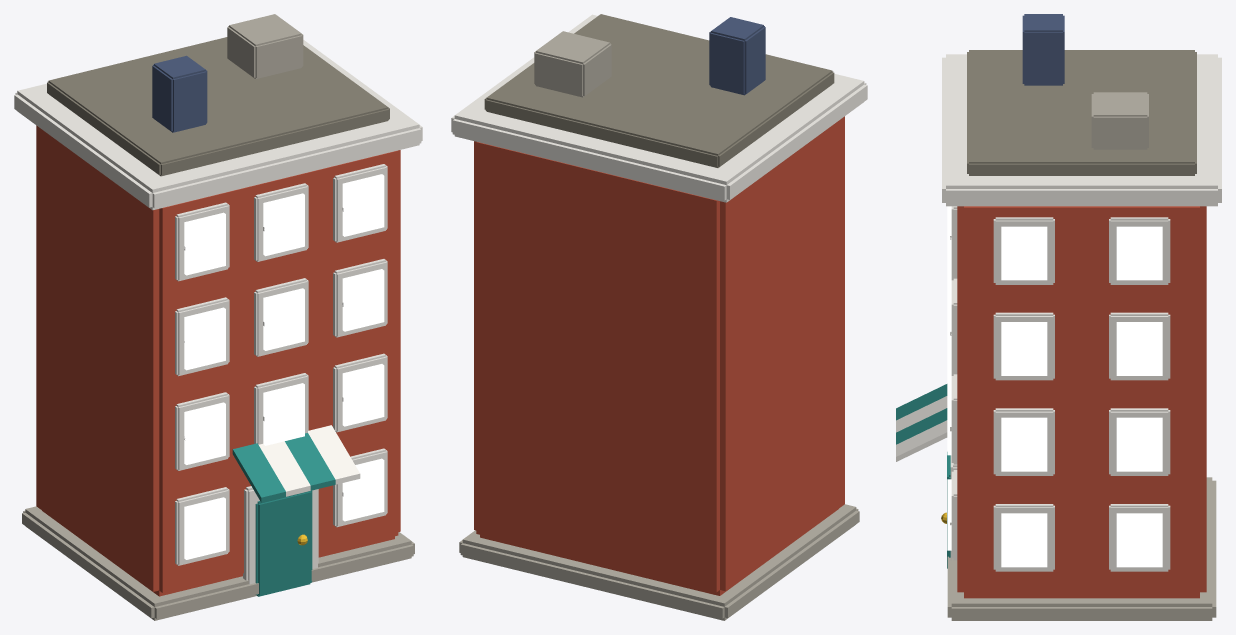
Rendered from apartments.glb.
3 renders of one model, left to right at view 1: azimuth 30°, elevation 25°; view 2: azimuth 150°, elevation 25°; view 3: azimuth 270°, elevation 25°, orthographic.
Visible parts, largest first — view 1: apartments; view 2: apartments; view 3: apartments.
Boxes of the visible parts, bbox=[...] form: apartments: bbox=[14, 14, 422, 620]; apartments: bbox=[451, 14, 867, 620]; apartments: bbox=[896, 14, 1221, 620].
Size of the model in its own units: 1.66 by 2.92 by 1.7.
